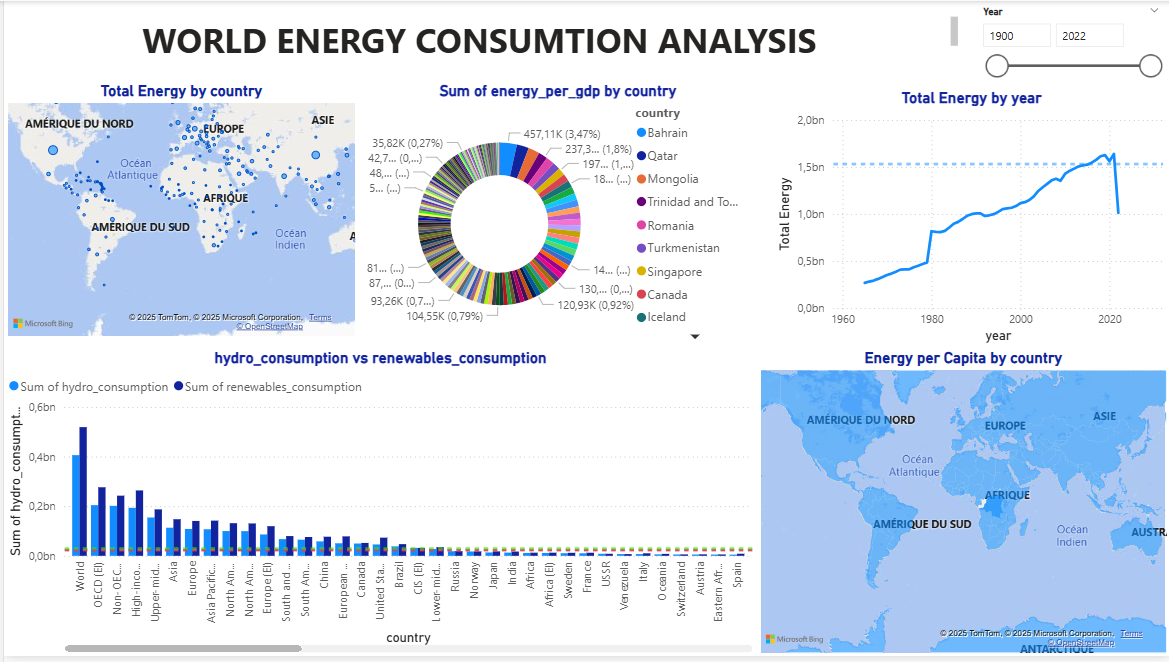

The dashboard page shown, as its layout file describes it:
{"tool":"powerbi","page":{"name":"Page 1","canvas":[1280,720],"ordinal":0},"visuals":[{"type":"map","fields":{"Category":["World Energy Consumption.country"],"Size":["World Energy Consumption.Total Energy"]},"box":[0,87.8,389.7,285.4],"z":0},{"type":"clusteredColumnChart","title":"hydro_consumption vs renewables_consumption","fields":{"Y":["Sum(World Energy Consumption.hydro_consumption)","Sum(World Energy Consumption.renewables_consumption)"],"Category":["World Energy Consumption.country"]},"box":[0,381.7,826.7,338.3],"z":1000},{"type":"slicer","fields":{"Values":["World Energy Consumption.year"]},"box":[1062.1,0,218.2,87.8],"z":2000},{"type":"lineChart","fields":{"Y":["World Energy Consumption.Total Energy"],"Category":["World Energy Consumption.year"]},"box":[843.3,96.7,436.7,285],"z":3000},{"type":"donutChart","fields":{"Y":["Sum(World Energy Consumption.energy_per_gdp)"],"Category":["World Energy Consumption.country"]},"box":[390,88.3,436.7,293.3],"z":4000},{"type":"filledMap","fields":{"Category":["World Energy Consumption.country"]},"box":[826.1,381.5,454.2,338.9],"z":5000},{"type":"textbox","box":[0,12.3,1052.5,61.7],"z":6000}]}

Visuals, with their boxes in screenshot pixels (x1, y1, x2, y2), scaled from the page's 1280x720 canvas onto the 1169x662 screenshot:
map - World Energy Consumption.country x World Energy Consumption.Total Energy: x1=0, y1=81, x2=356, y2=343
"hydro_consumption vs renewables_consumption" clusteredColumnChart: x1=0, y1=351, x2=755, y2=661
slicer - World Energy Consumption.year: x1=970, y1=0, x2=1168, y2=81
lineChart - World Energy Consumption.Total Energy x World Energy Consumption.year: x1=770, y1=89, x2=1168, y2=351
donutChart - Sum(World Energy Consumption.energy_per_gdp) x World Energy Consumption.country: x1=356, y1=81, x2=755, y2=351
filledMap - World Energy Consumption.country: x1=754, y1=351, x2=1168, y2=661
textbox: x1=0, y1=11, x2=961, y2=68
